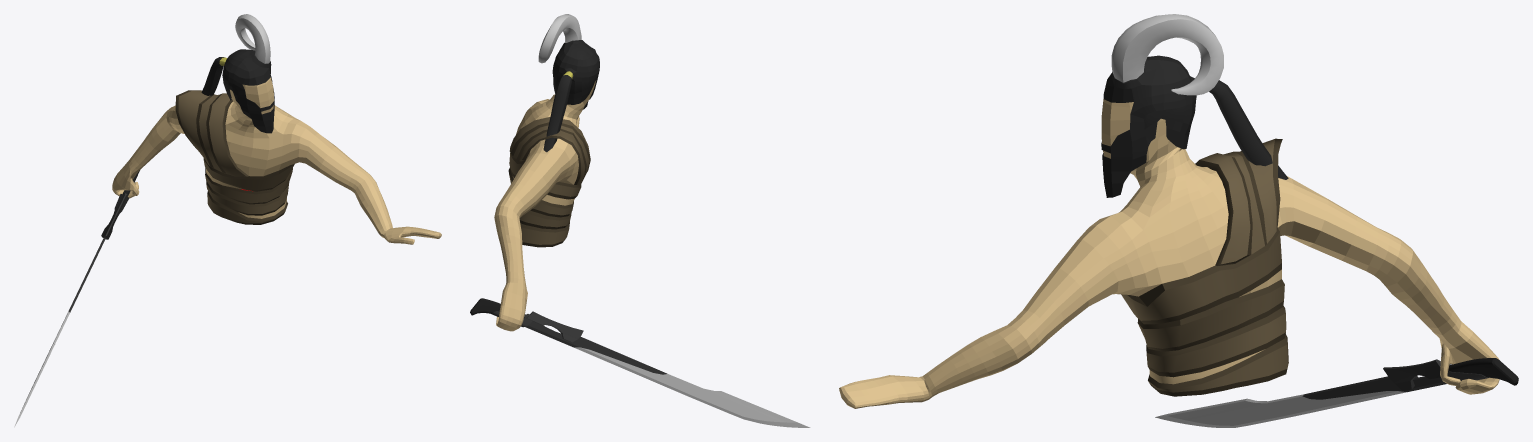
File: CutPlayer_Bottom.fbx
The picture shows the model from 3 angles, left to right: view 1: azimuth 30°, elevation 25°; view 2: azimuth 150°, elevation 25°; view 3: azimuth 270°, elevation 25°; orthographic projection. The views are drawn at different scales.
Visible parts, largest first — view 1: tophalf; view 2: tophalf; view 3: tophalf.
Boxes of the visible parts, bbox=[...] form: tophalf: bbox=[14, 14, 441, 427]; tophalf: bbox=[470, 14, 810, 427]; tophalf: bbox=[839, 14, 1518, 427].
Bounding box in the file's own units: 147 × 143 × 145.
